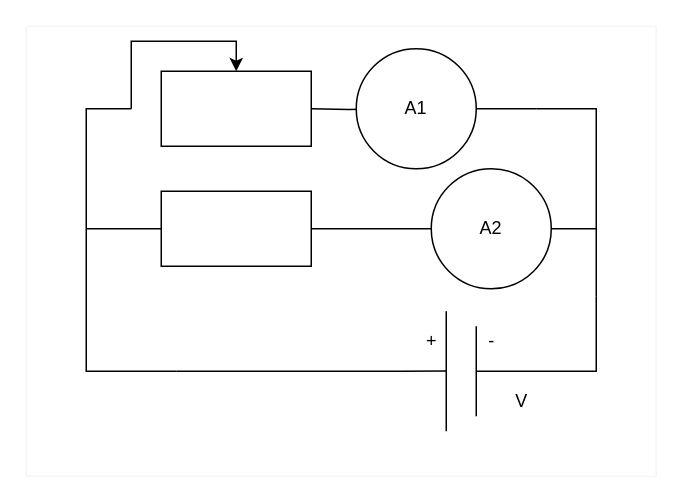
Some shapes in this 683 by 503 pixel diagram are drawn without their labels. Each missing label, with the centre of its shape:
"Резистор постоянный" belongs at pixel 235 228.
"Реостат (резистор переменный)" belongs at pixel 235 108.
